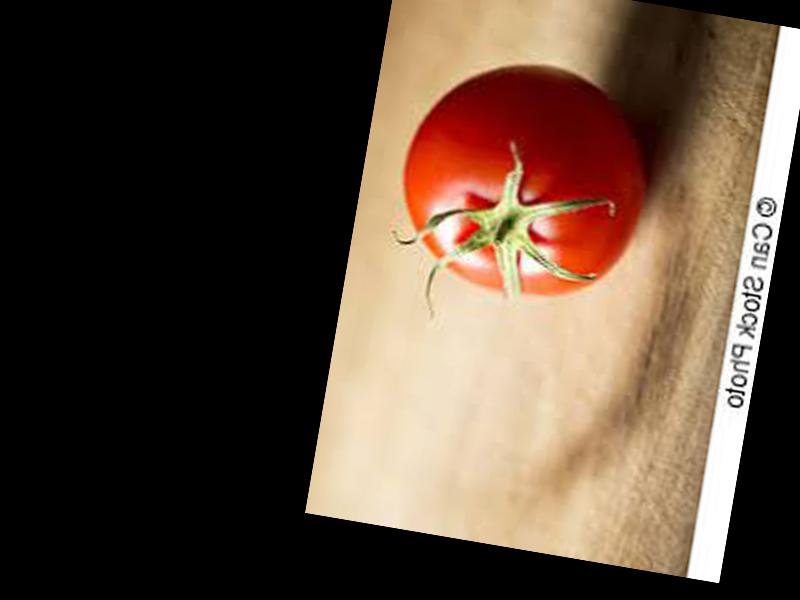Tomato: (390, 48, 660, 315)
